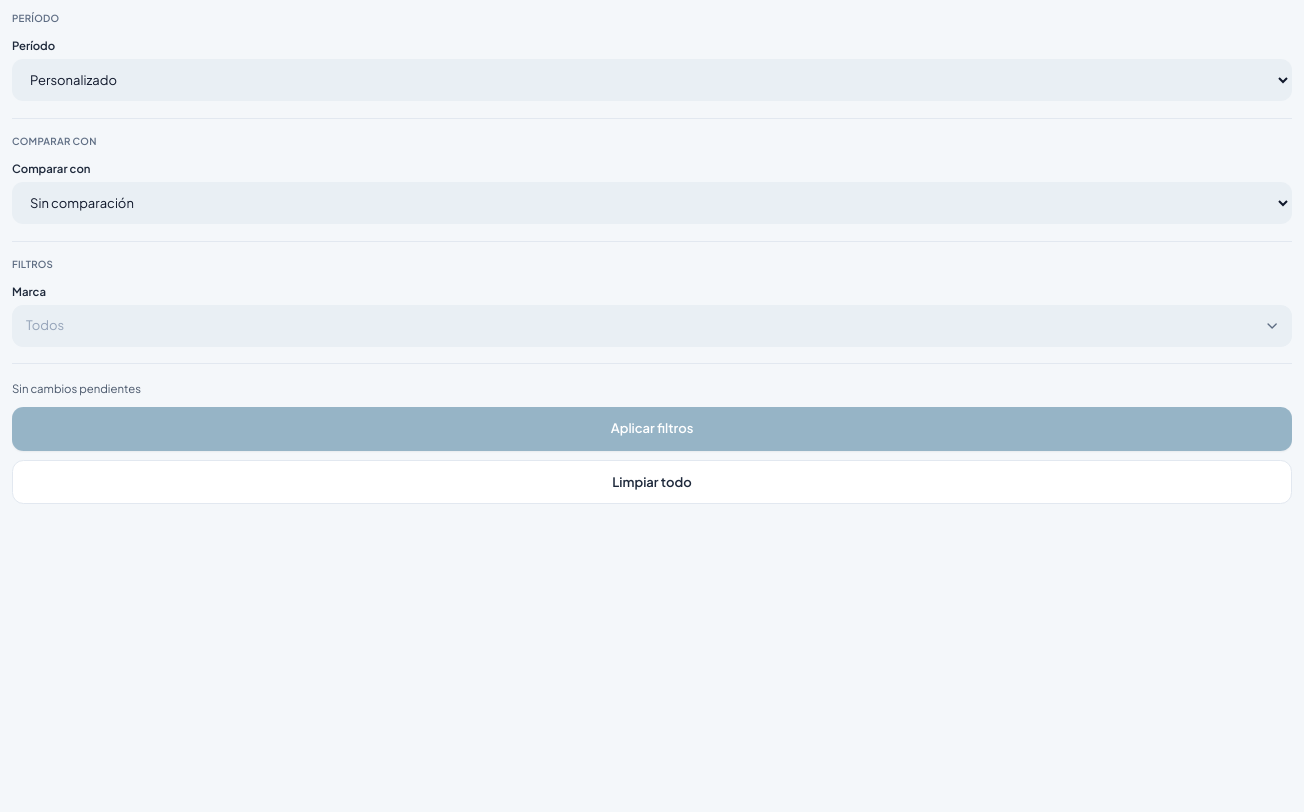
Test: ParamsForm › custom period with missing dates shows errors when trying to apply
Check: the label "Período" is shown, box x1=12 y1=38 x2=55 y2=54
Select "Personalizado" in the dropdown labelled "Período" at (652, 80), box x1=12 y1=59 x2=1292 y2=101
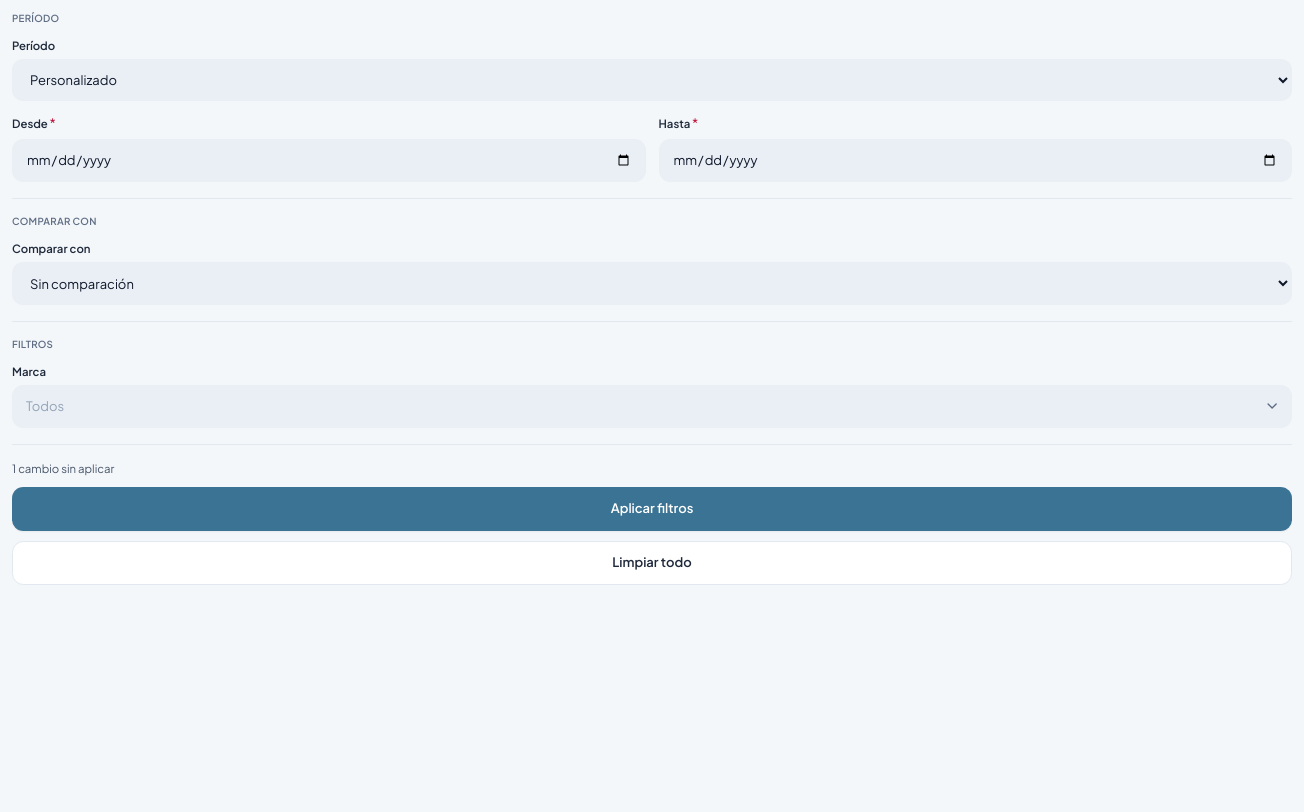
Click the button "Aplicar filtros" at (652, 509), box x1=12 y1=487 x2=1292 y2=531
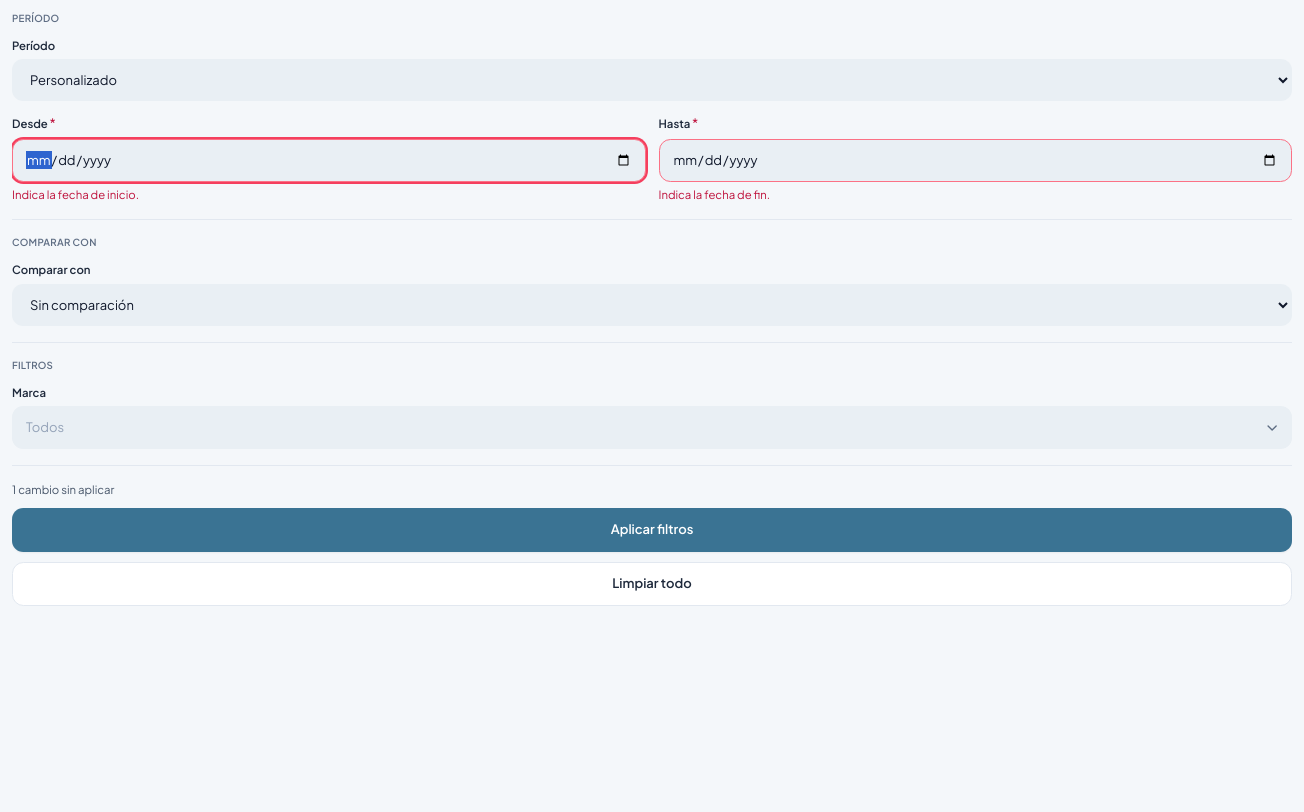
Check: the text "Indica la fecha de inicio." is shown, box x1=12 y1=187 x2=139 y2=202
Check: the text "Indica la fecha de fin." is shown, box x1=658 y1=187 x2=770 y2=202
